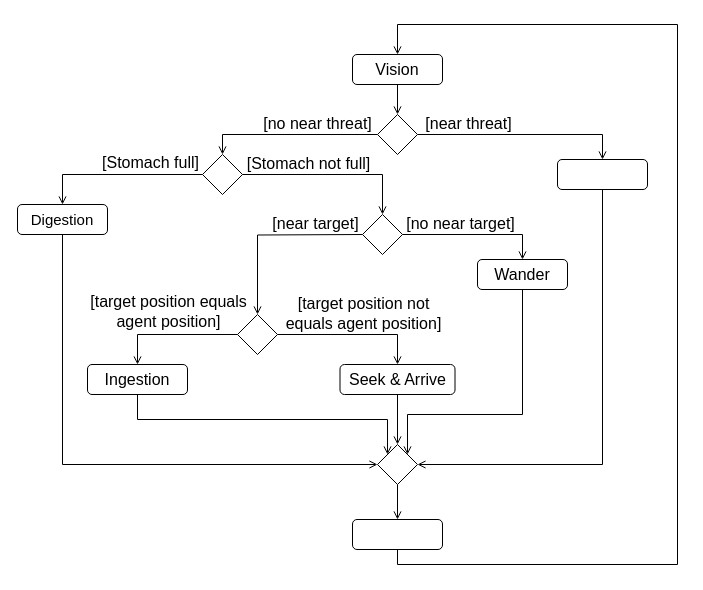
Image size: 703x590. Some labels were removed from this diagram. Each missing label, with the box of its shape:
Evasion: (556, 158, 648, 190)
Growth: (352, 518, 442, 550)
